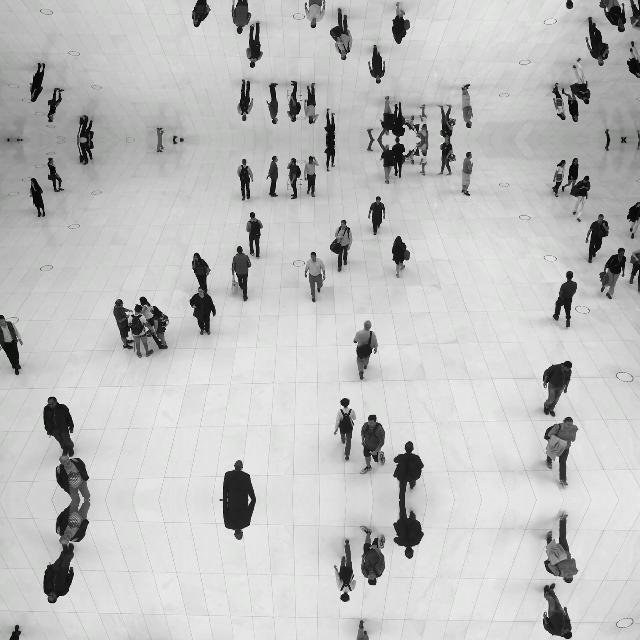person: (544, 512, 580, 584), (544, 417, 580, 488), (43, 396, 75, 458), (43, 542, 75, 604), (393, 442, 425, 501), (393, 499, 425, 558), (542, 360, 574, 418), (542, 582, 574, 640), (359, 415, 387, 475), (359, 525, 387, 585), (55, 454, 91, 500), (55, 500, 91, 546), (353, 320, 379, 380), (552, 270, 578, 328), (334, 398, 356, 462), (334, 538, 356, 602), (1, 314, 23, 376), (222, 460, 256, 500), (222, 500, 256, 540), (600, 248, 626, 300), (190, 286, 217, 336), (130, 304, 154, 358), (331, 219, 354, 273), (331, 7, 354, 61), (586, 214, 610, 264), (586, 16, 610, 66), (304, 251, 326, 303), (232, 246, 252, 302), (570, 175, 592, 223), (570, 57, 592, 105), (114, 298, 134, 349), (150, 306, 170, 350), (391, 1, 411, 44), (391, 236, 411, 278), (245, 212, 262, 260), (245, 20, 262, 68), (600, 0, 625, 32), (192, 252, 210, 296), (368, 196, 387, 236), (368, 44, 387, 84), (138, 296, 156, 338), (238, 158, 255, 202), (238, 78, 255, 122), (28, 178, 46, 218), (28, 62, 46, 102), (231, 0, 252, 34), (286, 158, 302, 200), (303, 156, 319, 198), (286, 80, 302, 122), (303, 82, 319, 124), (380, 143, 396, 184), (437, 140, 455, 176), (437, 104, 455, 140), (380, 96, 396, 136), (304, 0, 326, 29), (461, 152, 475, 196), (461, 84, 475, 128), (561, 158, 579, 192), (561, 88, 579, 122), (48, 157, 64, 193), (48, 87, 64, 123), (266, 156, 280, 197), (266, 84, 280, 124), (353, 619, 379, 640), (392, 140, 406, 178), (552, 159, 566, 197), (626, 201, 640, 239), (392, 102, 406, 140), (552, 83, 566, 121), (626, 41, 640, 79), (628, 248, 640, 292), (191, 0, 210, 27), (416, 140, 429, 176), (416, 104, 429, 140), (76, 140, 94, 164), (76, 116, 94, 140), (324, 140, 336, 172), (324, 108, 336, 140), (0, 624, 23, 640), (628, 0, 639, 31), (366, 140, 386, 152), (366, 128, 386, 140), (552, 0, 577, 9), (156, 140, 164, 152), (156, 128, 164, 140)
